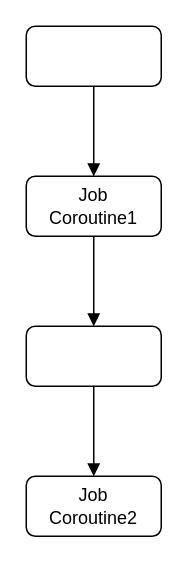
Image size: 188x563. Some labels were removed from this diagram. The shapes that lost their labels are listed below. From the top down, each one's centre as x and y in pixels, then its label:
At point 93,55: "Job runBlocking".
At point 93,355: "Job newJob".
